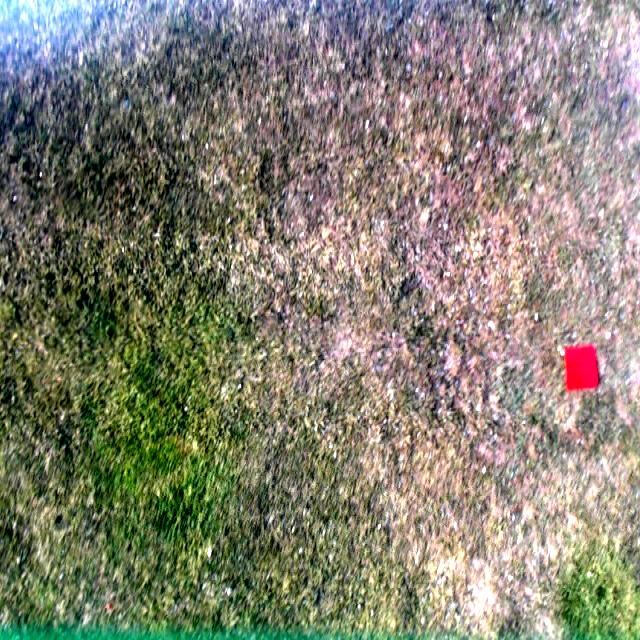red_square: (565, 347, 599, 390)
